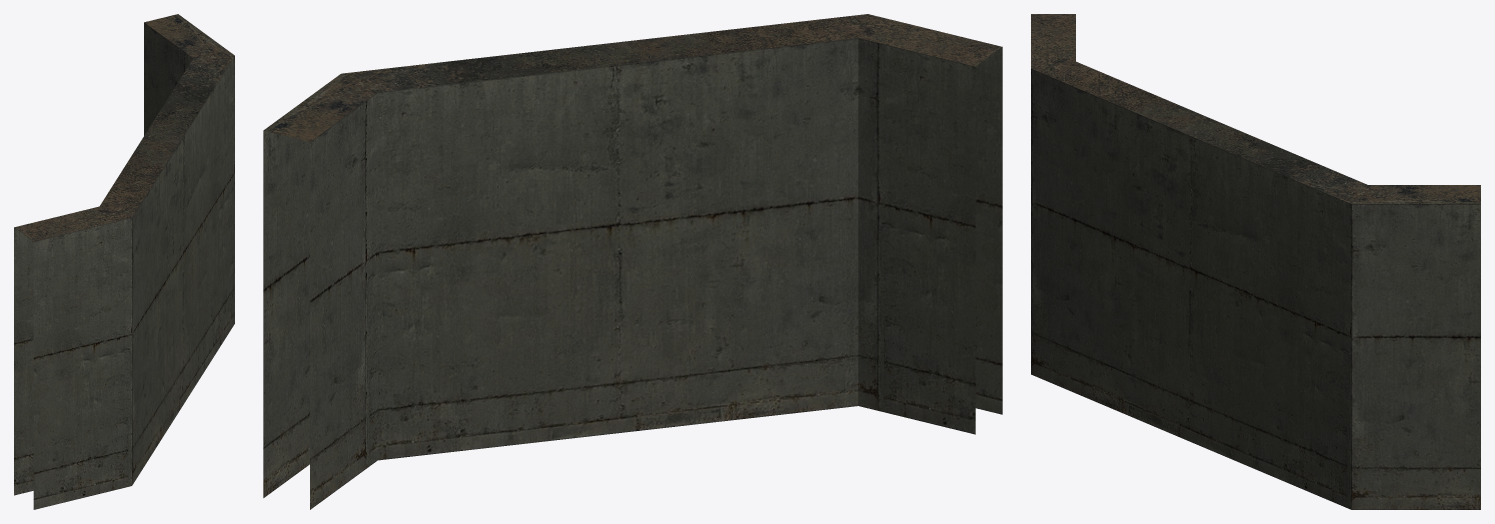
The model's file is wall_rg_1_m1a_1.obj.
3 views of the same model, side by side, from view 1: azimuth 30°, elevation 25°; view 2: azimuth 150°, elevation 25°; view 3: azimuth 270°, elevation 25° (orthographic). The views are drawn at different scales.
Parts seen in each view (by area): view 1: wall_rg_1_m1a_1; view 2: wall_rg_1_m1a_1; view 3: wall_rg_1_m1a_1.
Boxes of the visible parts, box(x1,y1,x2,y2) form: wall_rg_1_m1a_1: box(14, 14, 234, 509); wall_rg_1_m1a_1: box(263, 14, 1002, 509); wall_rg_1_m1a_1: box(1031, 14, 1480, 509).
Bounding box in the file's own units: 4 × 3 × 4.
